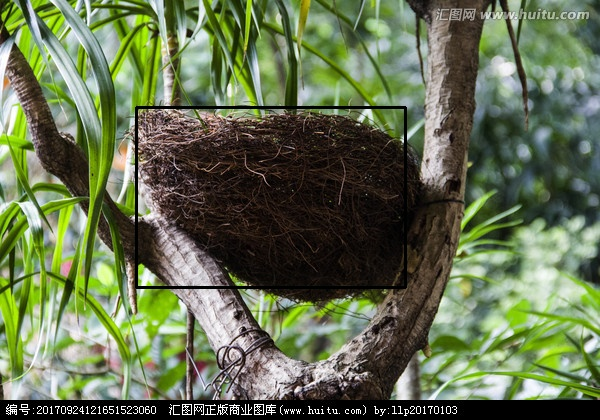bird-nest: (136, 107, 405, 287)
